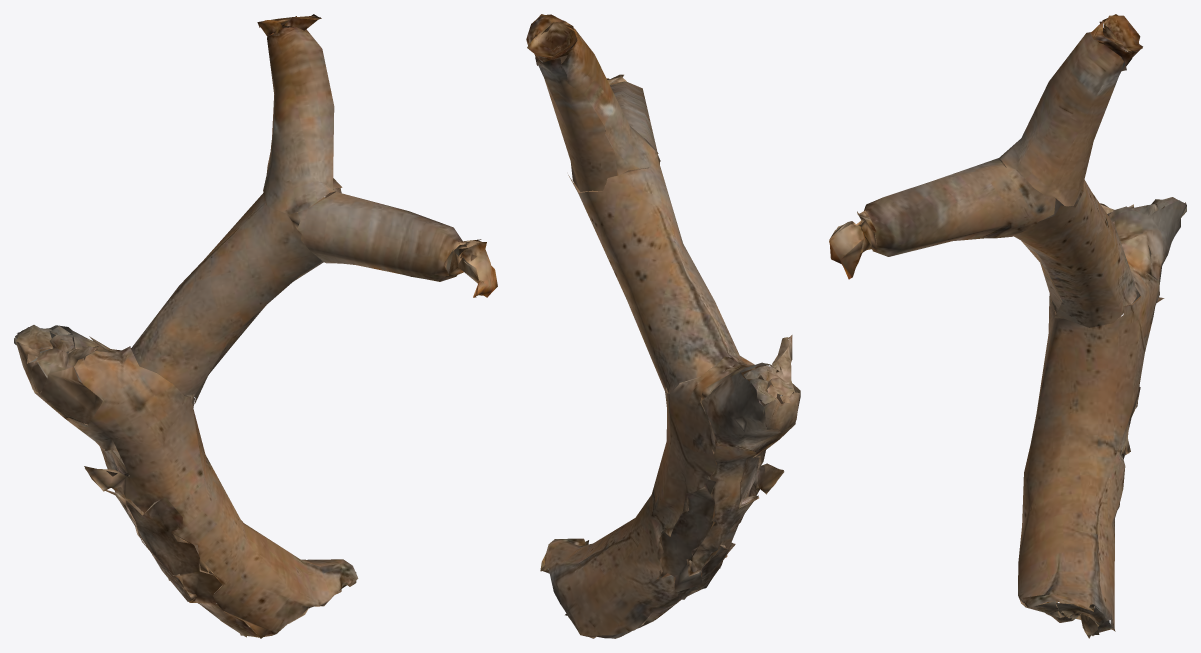
Rendered from dead_quiver_branch_01_lod1.glb.
The picture shows the model from 3 angles, left to right: view 1: azimuth 30°, elevation 25°; view 2: azimuth 150°, elevation 25°; view 3: azimuth 270°, elevation 25°; orthographic projection. The views are drawn at different scales.
Visible parts, largest first — view 1: dead_quiver_branch_01; view 2: dead_quiver_branch_01; view 3: dead_quiver_branch_01.
Part boxes in pixels (bbox=[...]): dead_quiver_branch_01: bbox=[14, 14, 497, 638]; dead_quiver_branch_01: bbox=[526, 14, 800, 638]; dead_quiver_branch_01: bbox=[829, 14, 1186, 638].
Bounding box in the file's own units: 0.2536 × 0.4377 × 0.226.
Materials: 1 (1 with a texture image).
